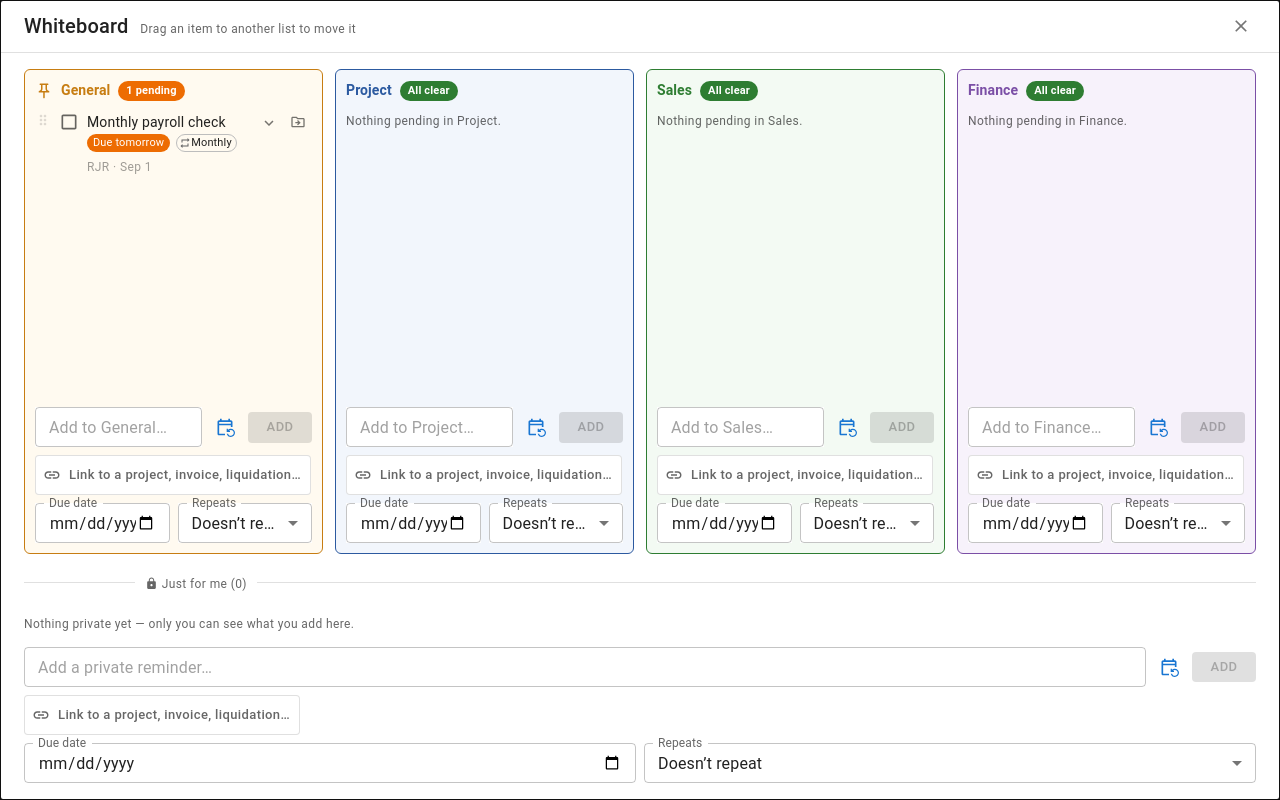
Test case: due dates, done-by and repeats › tells the user when ticking a repeating to-do created the next one
Click the checkbox at (69, 122), box [59,112,79,132]
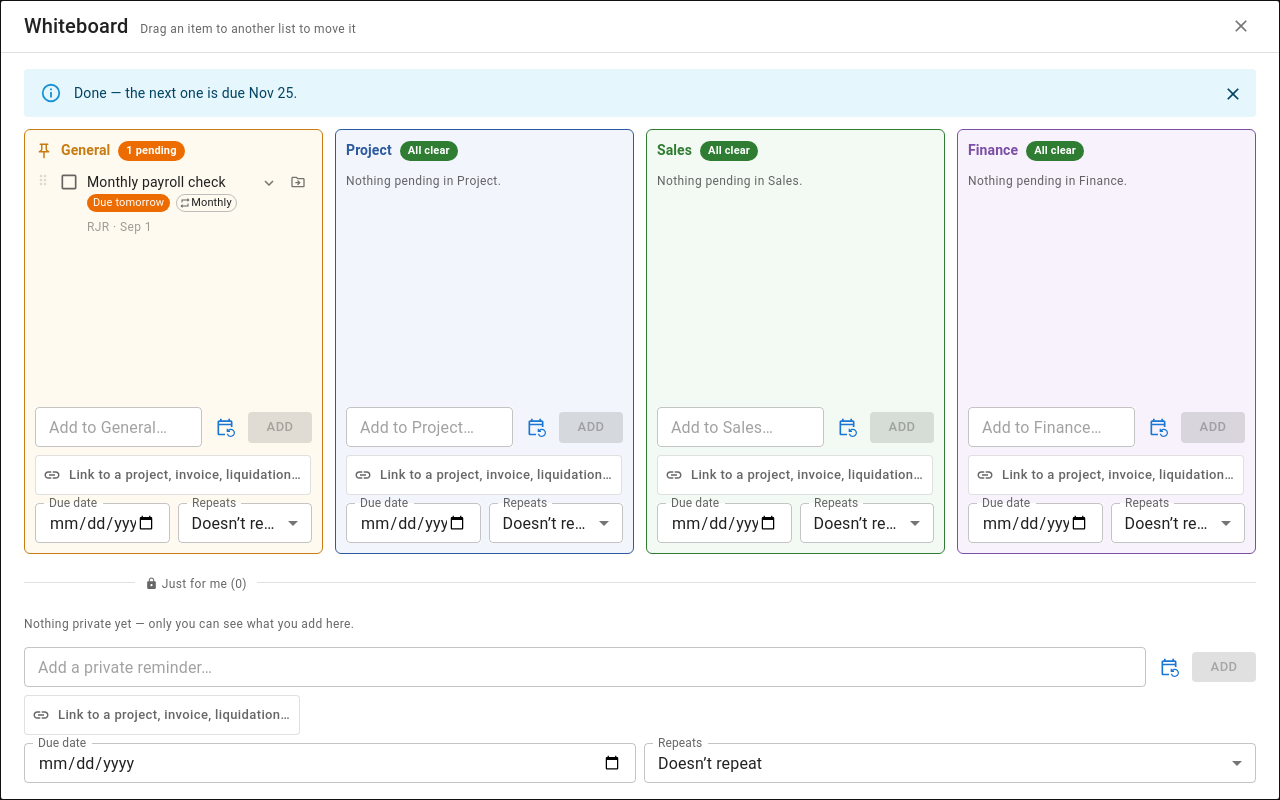
Now the text "Done — the next one is due Nov 25." is shown, box [74,85,297,101]
